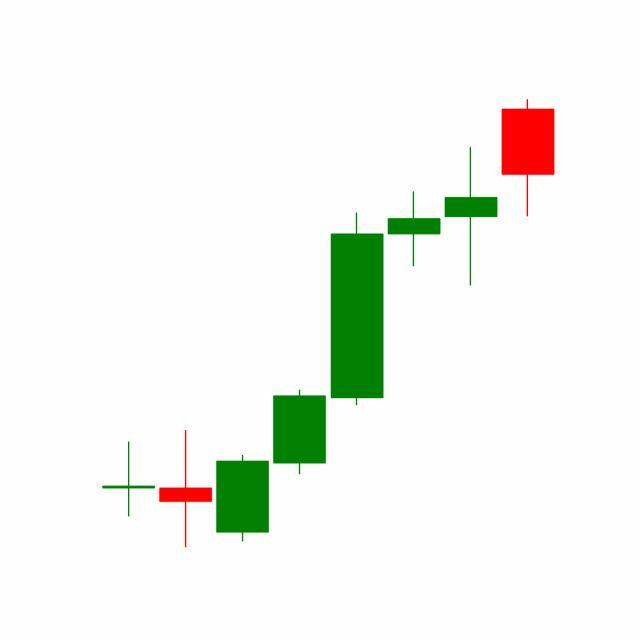Advance Block: (328, 144, 500, 409)
